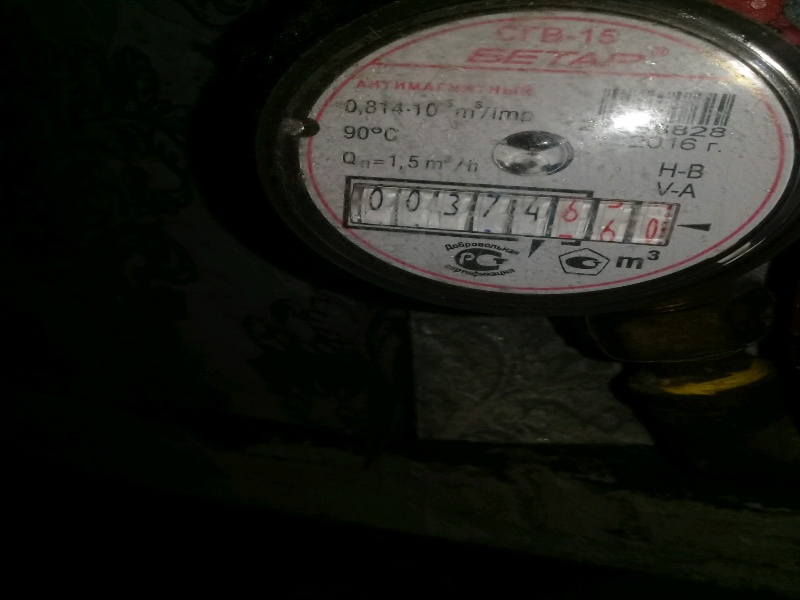meter: (348, 183, 657, 247)
